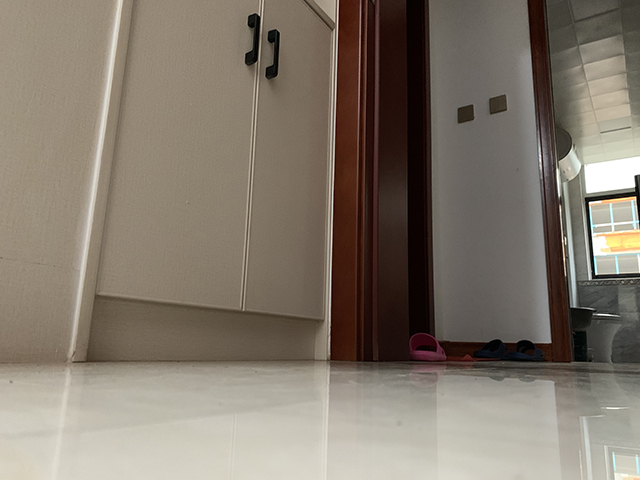cabinet: (67, 1, 340, 364)
slippers: (471, 338, 547, 363), (407, 331, 448, 364)
